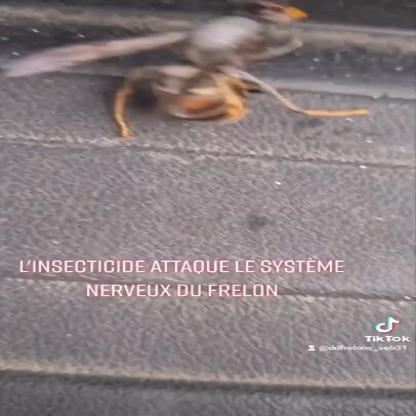hornet: (57, 26, 388, 163)
